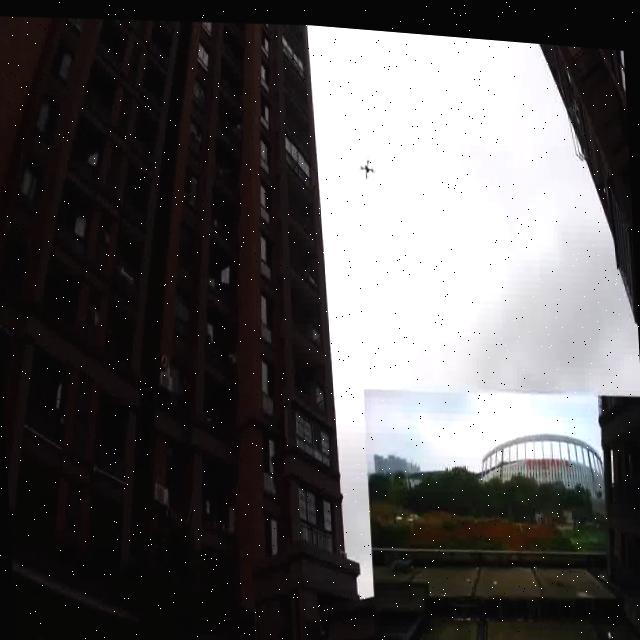drone: (356, 146, 378, 173)
